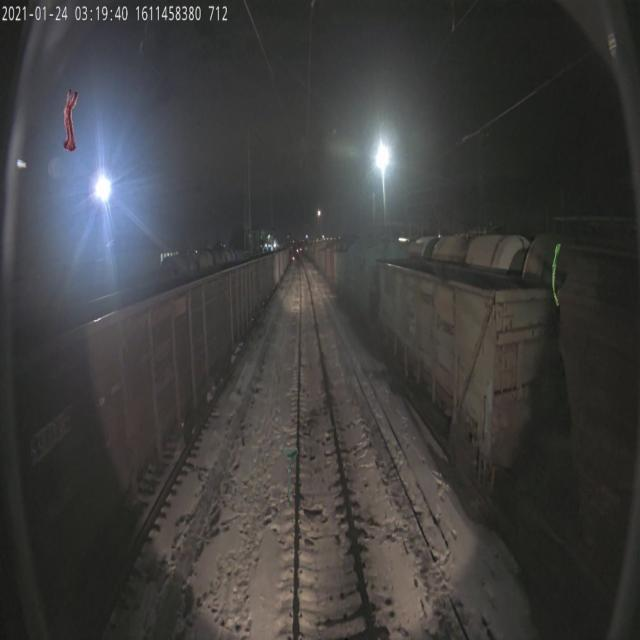floating object: (281, 443, 298, 508), (63, 89, 78, 152), (552, 244, 562, 308)
